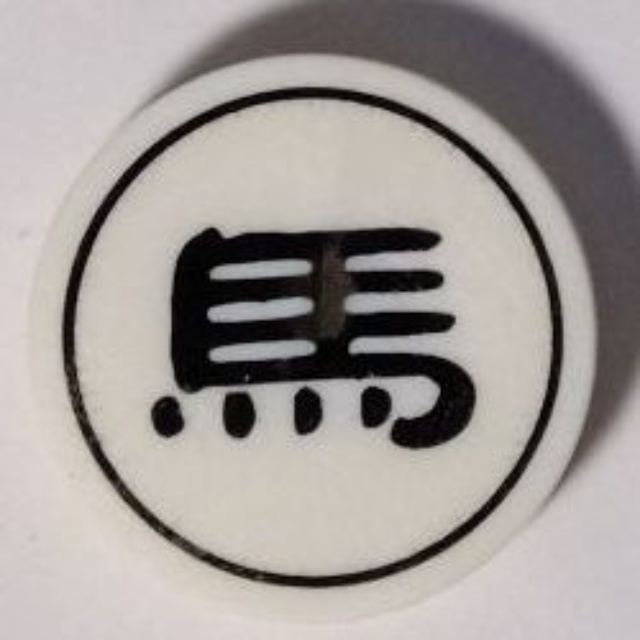black_ma: (24, 49, 609, 628)
